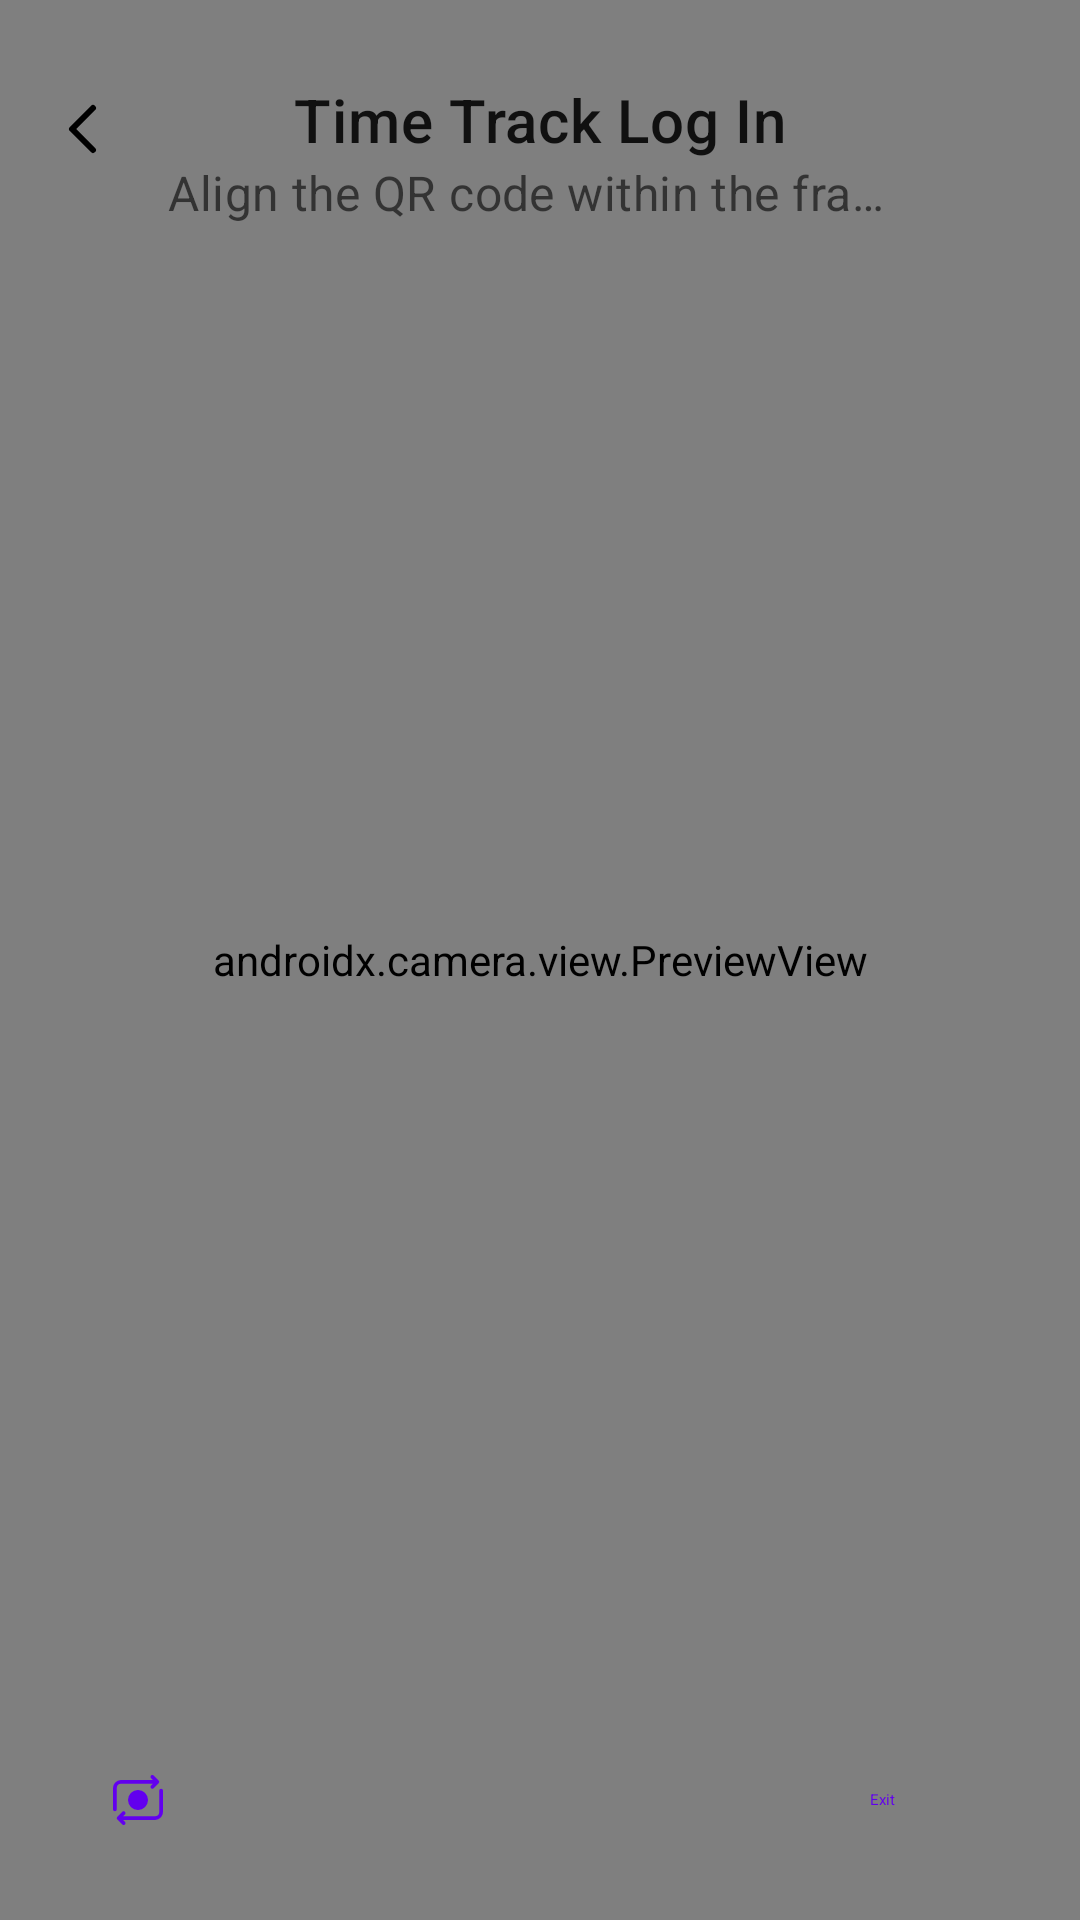

Icon bounding boxes for this 1080px x 1920px phone screenshot, format BBox(x1, y1, x2, y2):
camera switch: BBox(113, 1775, 163, 1825)
